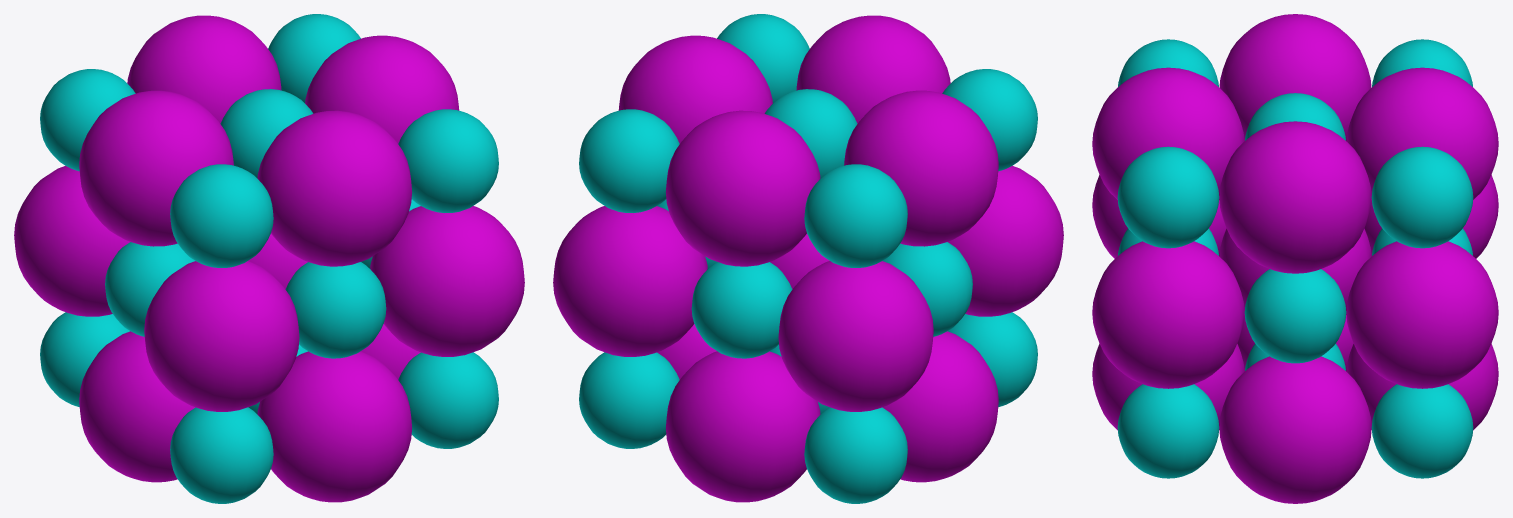
The model's file is naclgordo_centrado.glb.
3 renders of one model, left to right at view 1: azimuth 30°, elevation 25°; view 2: azimuth 150°, elevation 25°; view 3: azimuth 270°, elevation 25°, orthographic. The views are drawn at different scales.
Visible parts, largest first — view 1: atomo28; view 2: atomo28; view 3: atomo28.
Part boxes in pixels (bbox=[...]): atomo28: bbox=[14, 14, 524, 503]; atomo28: bbox=[553, 14, 1063, 503]; atomo28: bbox=[1092, 14, 1498, 503].
Bounding box in the file's own units: 3.2 × 3.2 × 3.2.
